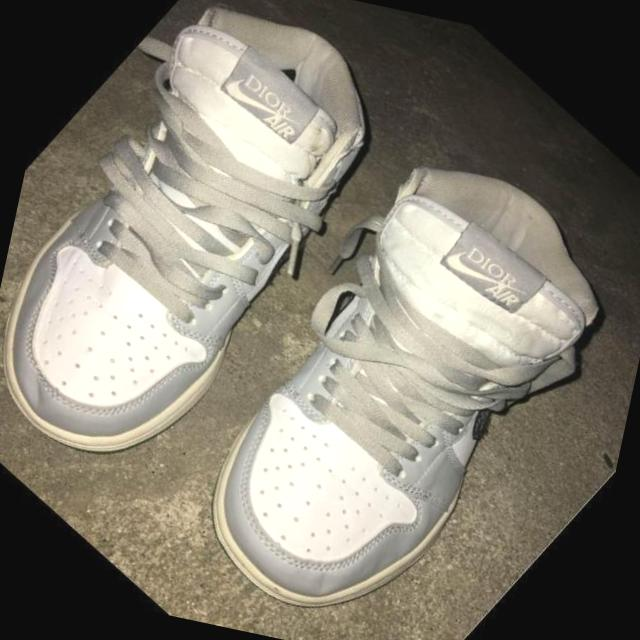nike_fake_jordan: (103, 71, 640, 640), (0, 0, 465, 551)
